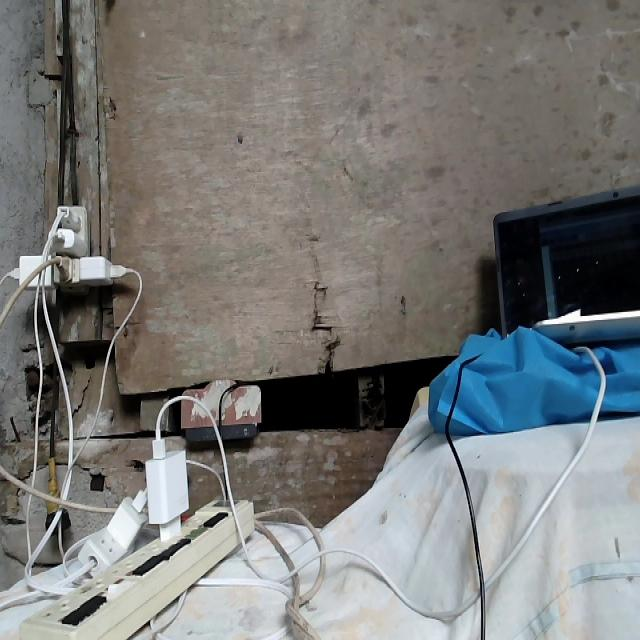-: (3, 203, 127, 288)
